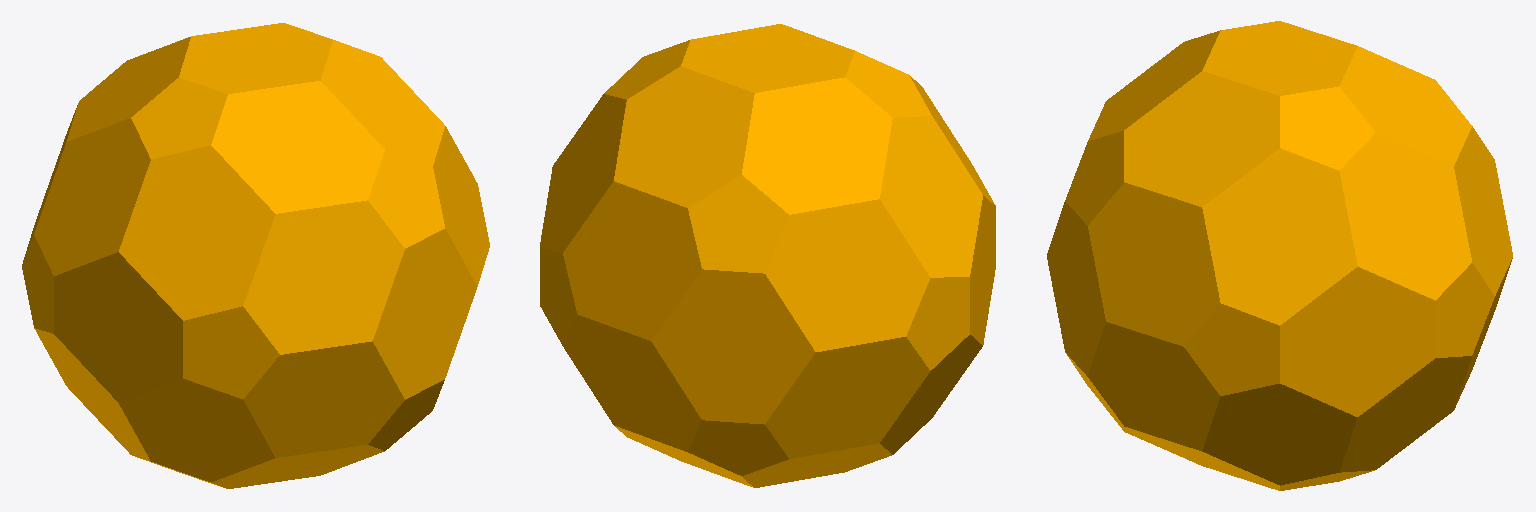
File: testvc.obj
3 renders of one model, left to right at view 1: azimuth 30°, elevation 25°; view 2: azimuth 150°, elevation 25°; view 3: azimuth 270°, elevation 25°, orthographic.
Parts seen in each view (by area): view 1: 0; view 2: 0; view 3: 0.
Boxes of the visible parts, x1=… form: 0: x1=22, y1=23, x2=489, y2=488; 0: x1=540, y1=24, x2=995, y2=487; 0: x1=1047, y1=21, x2=1512, y2=490.
Bounding box in the file's own units: 453 × 424 × 453.